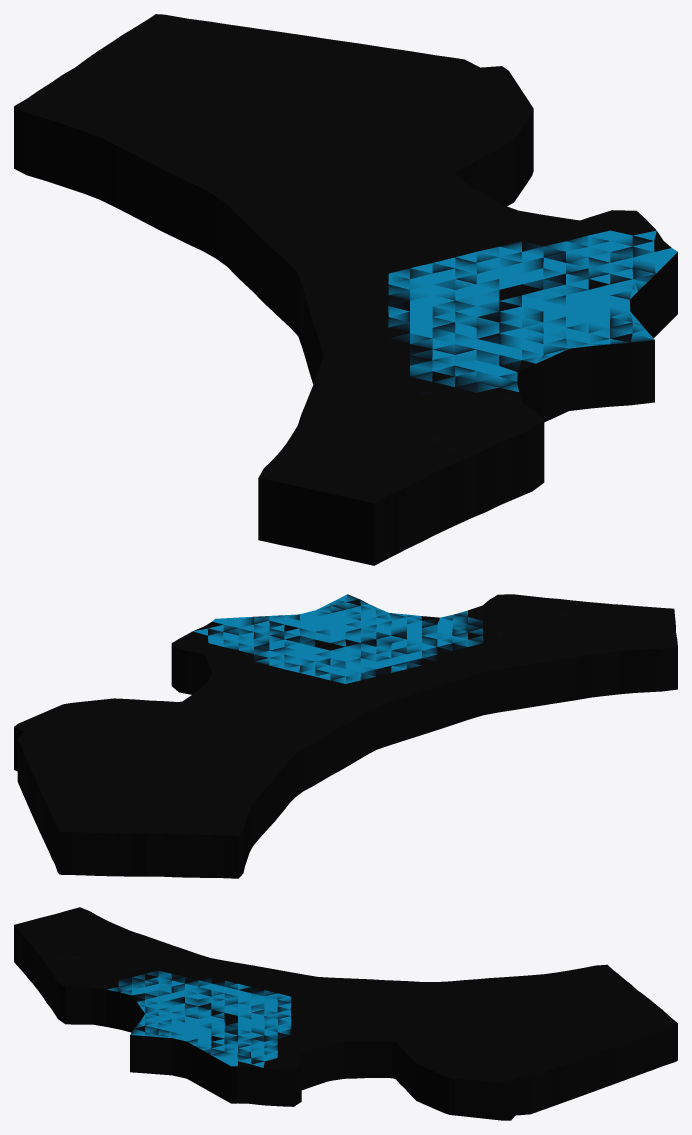
Rendered from 0012_drive_text.fbx.
The picture shows the model from 3 angles, top to bottom: view 1: azimuth 30°, elevation 25°; view 2: azimuth 150°, elevation 25°; view 3: azimuth 270°, elevation 25°; orthographic projection. The views are drawn at different scales.
Parts seen in each view (by area): view 1: [water]; view 2: [water]; view 3: [water].
Part boxes in pixels (x1,y1,x2,y2): [water]: [14, 14, 677, 565]; [water]: [14, 594, 677, 878]; [water]: [14, 907, 677, 1120].
Size of the model in its own units: 209 by 20.66 by 334.
